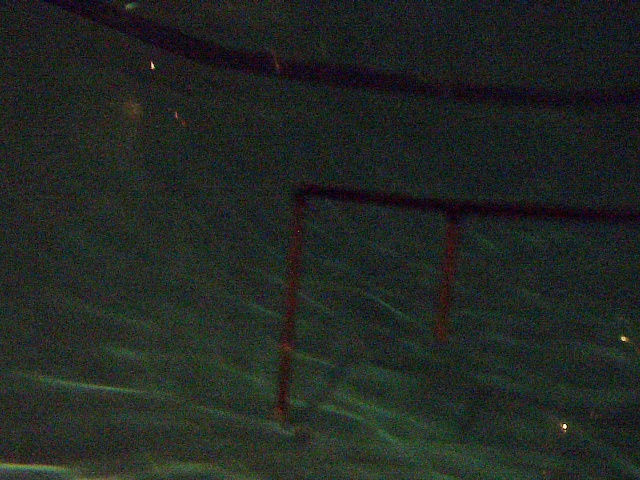Gate: (270, 198, 308, 420), (423, 212, 460, 340)
